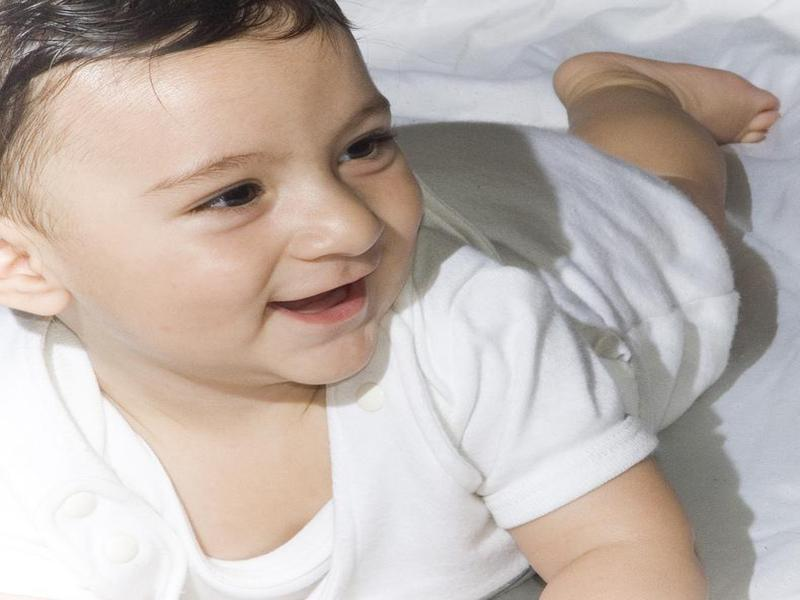person: (1, 14, 758, 581)
